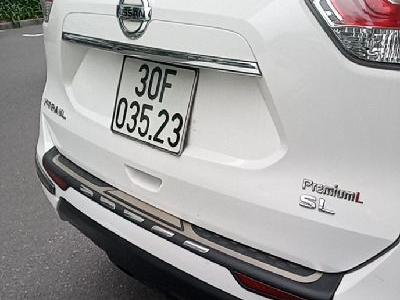lisence: (109, 56, 200, 158)
